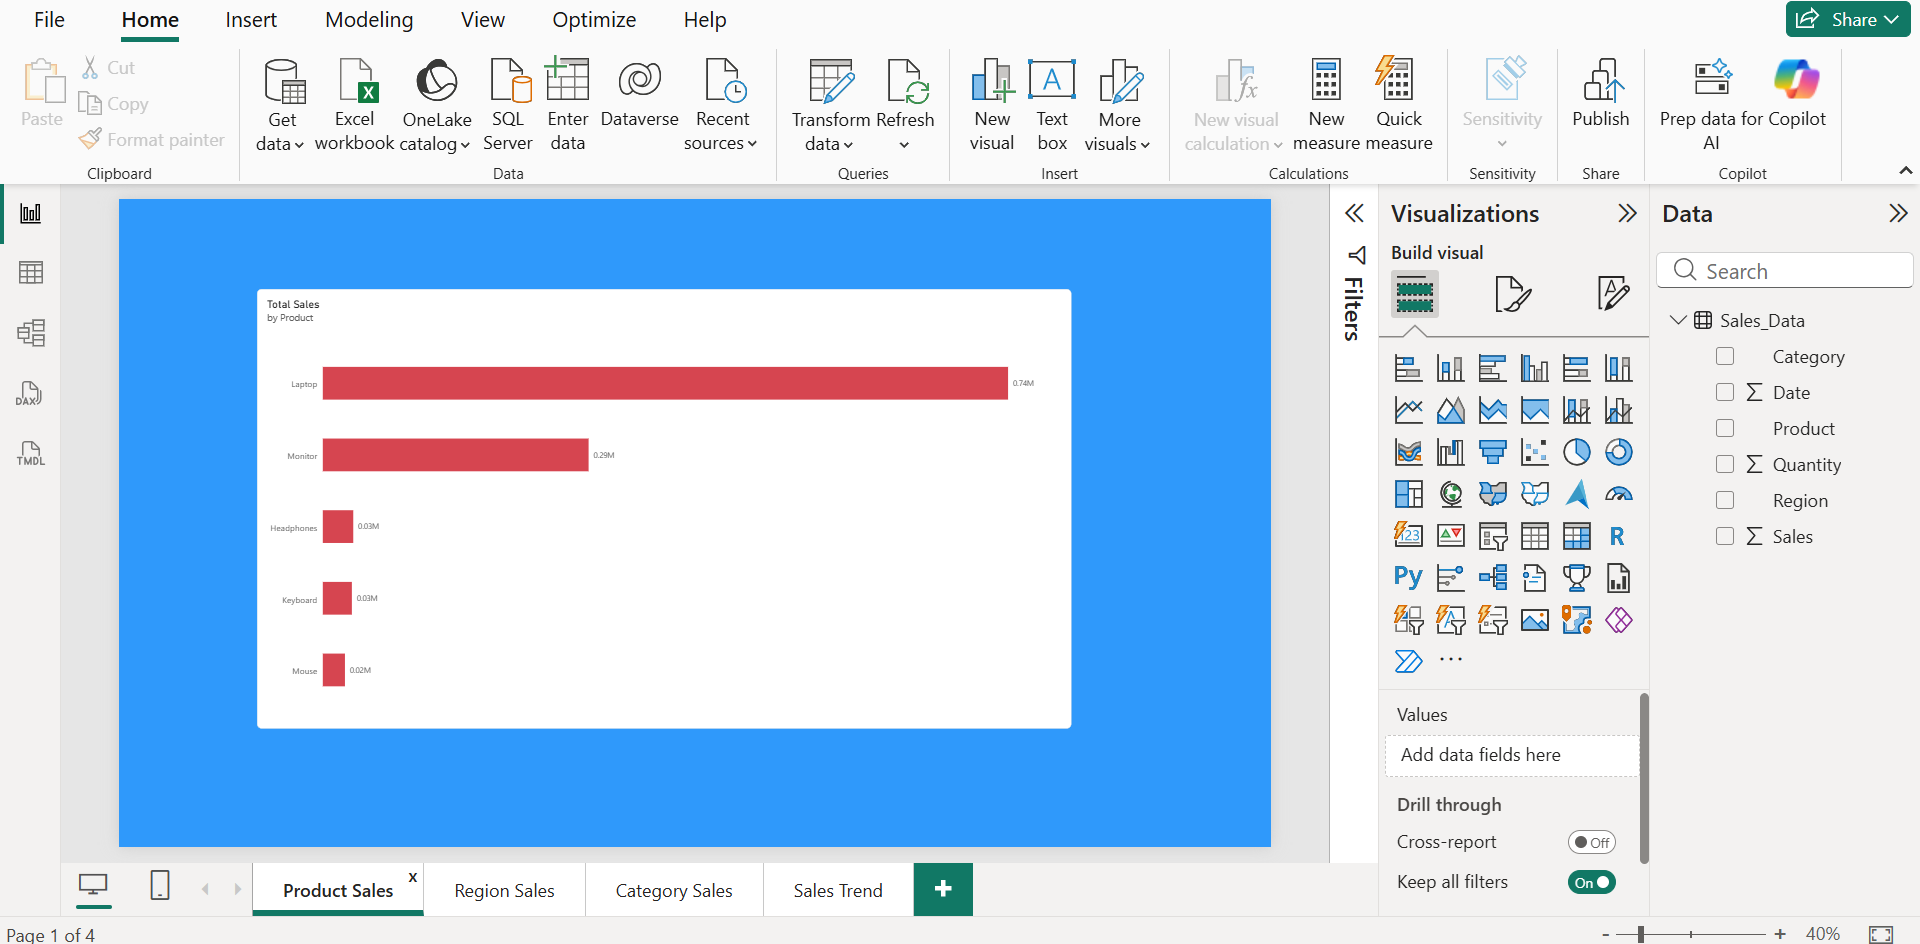

What the dashboard file says about the page in this screenshot:
{"tool":"powerbi","page":{"name":"Product Sales","canvas":[1920,1080],"ordinal":0},"visuals":[{"type":"barChart","fields":{"Category":["Sales_Data.Product"],"Y":["Sum(Sales_Data.Sales)"]},"box":[229,150.3,1357.6,732.5],"z":0}]}

Visuals, with their boxes on the page's 1920x1080 design canvas (x1, y1, x2, y2). These are canvas units, not pixel positions in the 1920x944 screenshot, which may show the page scaled, cropped or inside an application window:
barChart - Sales_Data.Product x Sum(Sales_Data.Sales): <region>229, 150, 1587, 883</region>
